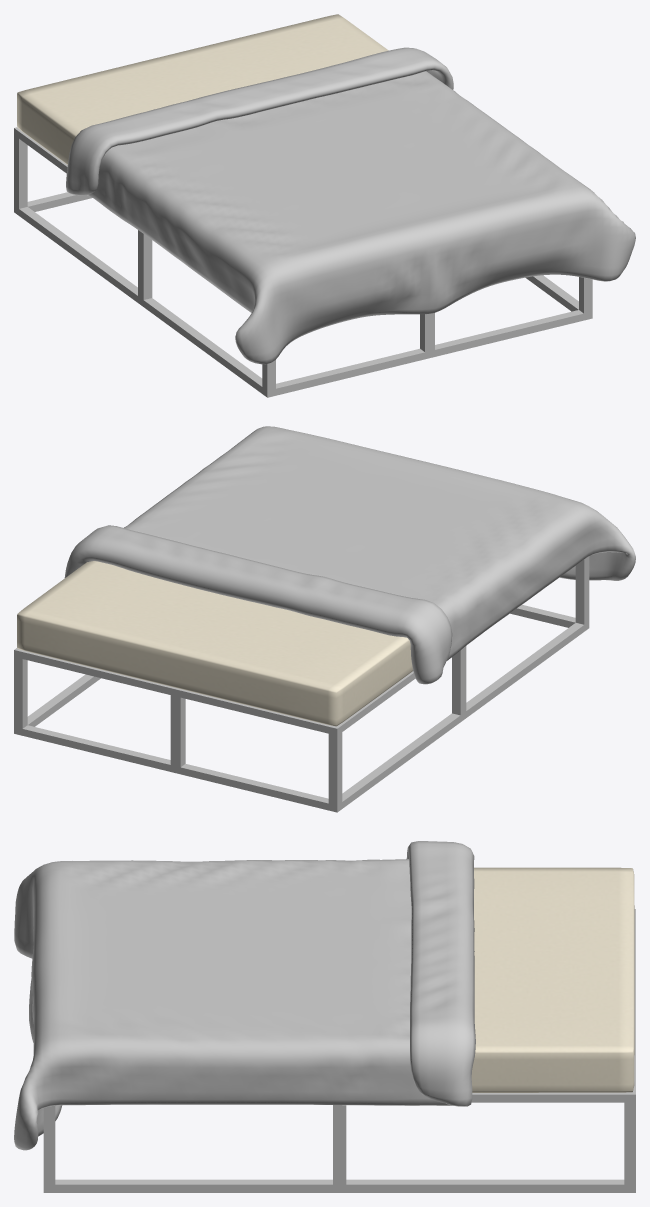
File: Bed10.fbx
3 renders of one model, top to bottom at view 1: azimuth 30°, elevation 25°; view 2: azimuth 150°, elevation 25°; view 3: azimuth 270°, elevation 25°, orthographic. The views are drawn at different scales.
Visible parts, largest first — view 1: Blanket10, Mattress10, BedFrame10; view 2: Blanket10, Mattress10, BedFrame10; view 3: Blanket10, Mattress10, BedFrame10.
Part boxes in pixels (x1=…): Blanket10: x1=66, y1=47, x2=635, y2=364; Mattress10: x1=17, y1=14, x2=388, y2=164; BedFrame10: x1=14, y1=127, x2=592, y2=397; Blanket10: x1=64, y1=426, x2=635, y2=684; Mattress10: x1=17, y1=561, x2=413, y2=726; BedFrame10: x1=14, y1=556, x2=589, y2=812; Blanket10: x1=14, y1=841, x2=475, y2=1150; Mattress10: x1=471, y1=867, x2=634, y2=1092; BedFrame10: x1=43, y1=909, x2=635, y2=1192.
Bounding box in the file's own units: 206 × 70.05 × 235.
